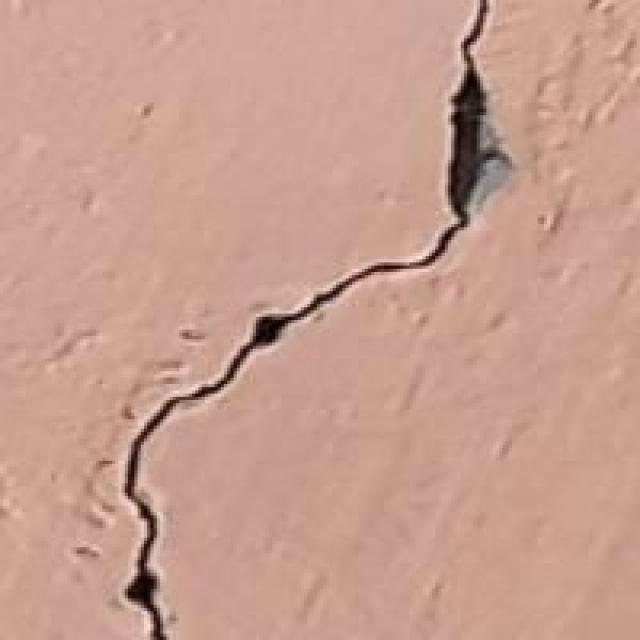crack: (82, 0, 520, 640)
